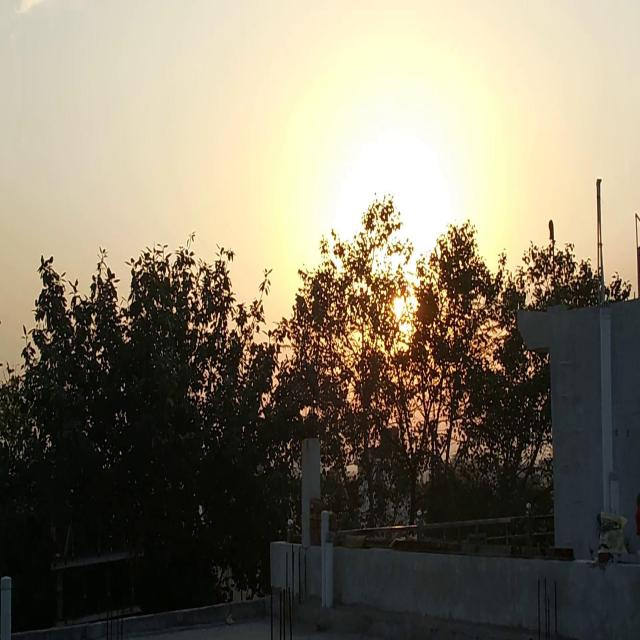other: (315, 135, 477, 327)
